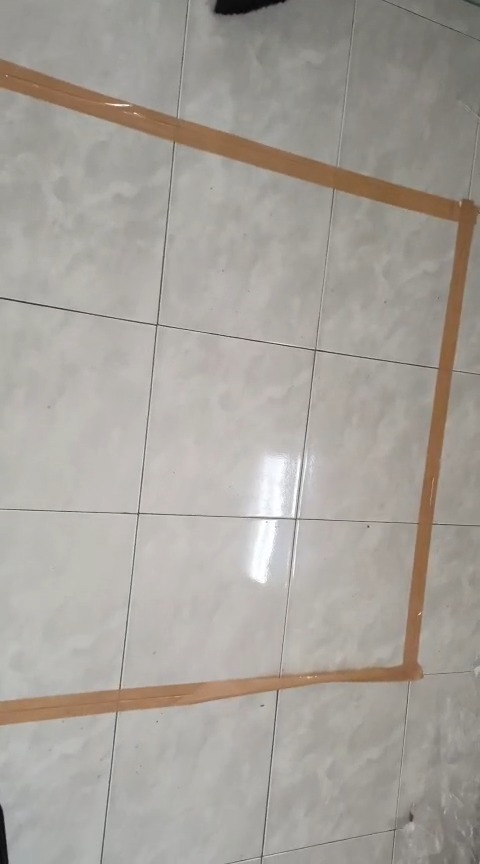floor marking: (0, 60, 475, 725)
